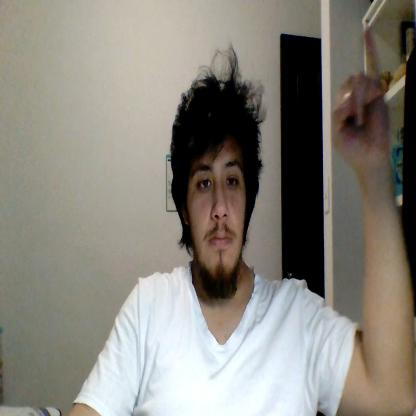I: (334, 23, 390, 162)
